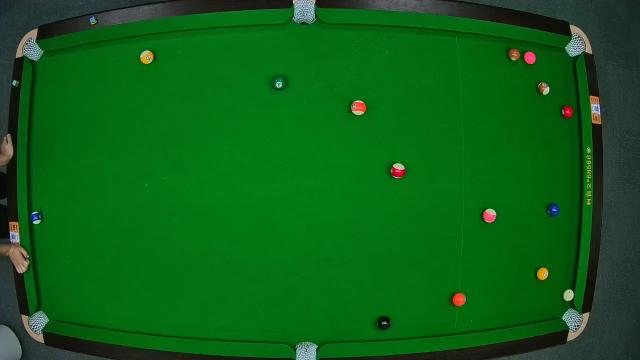bag1: (20, 40, 40, 61)
bag2: (292, 1, 316, 25)
bag3: (566, 35, 588, 55)
bag4: (28, 311, 48, 333)
bag5: (293, 340, 319, 360)
bag6: (562, 308, 582, 332)
ball0: (562, 290, 574, 302)
ball1: (537, 267, 549, 280)
ball10: (28, 211, 44, 227)
ball11: (388, 164, 406, 178)
ball12: (483, 209, 497, 223)
ball13: (351, 100, 367, 116)
ball15: (538, 82, 550, 94)
ball2: (546, 204, 562, 219)
ball3: (560, 105, 574, 119)
ball4: (524, 51, 536, 65)
ball5: (449, 291, 466, 307)
ball6: (271, 75, 289, 91)
ball7: (506, 47, 520, 61)
ball8: (376, 316, 392, 330)
ball9: (139, 49, 155, 65)
